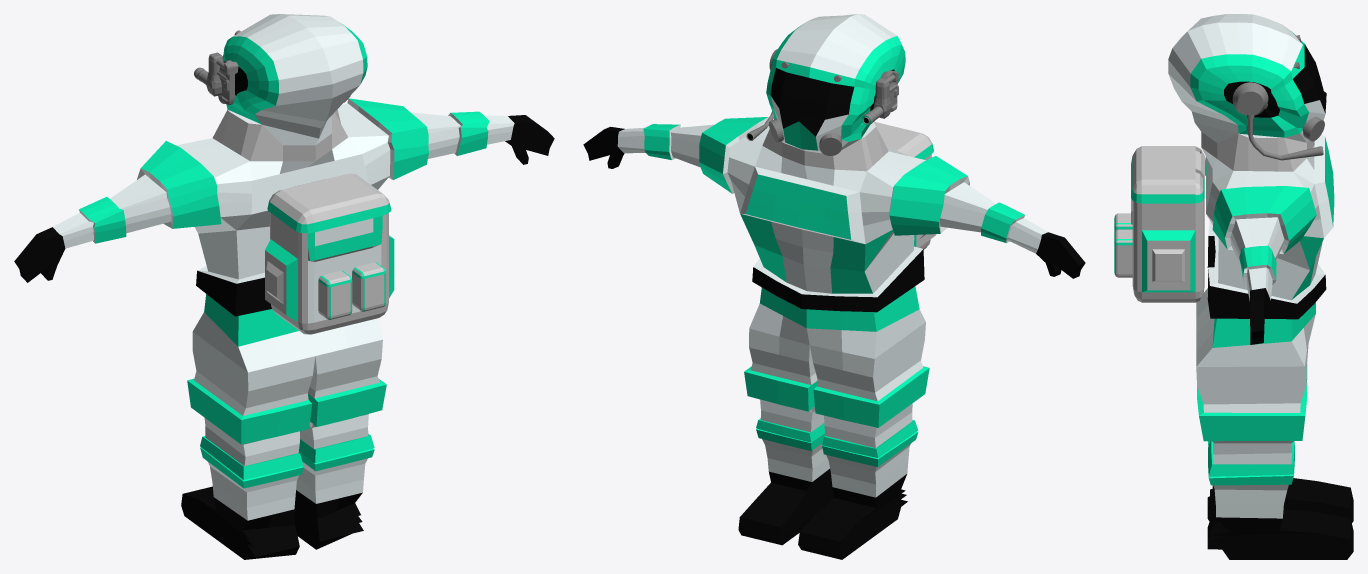
Rendered from Space Healer Final.fbx.
3 renders of one model, left to right at view 1: azimuth 30°, elevation 25°; view 2: azimuth 150°, elevation 25°; view 3: azimuth 270°, elevation 25°, orthographic. The views are drawn at different scales.
Visible parts, largest first — view 1: Space Healer; view 2: Space Healer; view 3: Space Healer.
Part boxes in pixels (x1,y1,x2,y2): Space Healer: [14, 14, 554, 559]; Space Healer: [583, 14, 1085, 559]; Space Healer: [1114, 14, 1353, 559].
Bounding box in the file's own units: 306 × 286 × 121.
